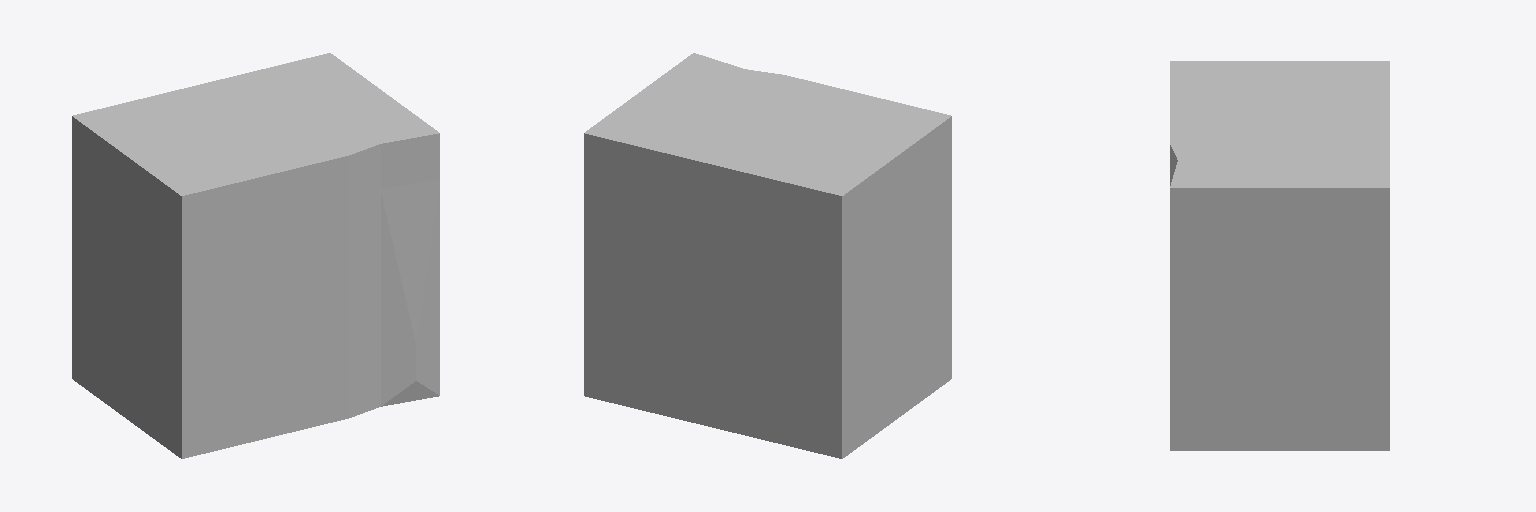
The picture shows the model from 3 angles: view 1: azimuth 30°, elevation 25°; view 2: azimuth 150°, elevation 25°; view 3: azimuth 270°, elevation 25°; orthographic projection.
Visible parts, largest first — view 1: CardboardBoxes_2.008_Cube.023; view 2: CardboardBoxes_2.008_Cube.023; view 3: CardboardBoxes_2.008_Cube.023.
Part boxes in pixels (x1,y1,x2,y2): CardboardBoxes_2.008_Cube.023: (72, 53, 439, 458); CardboardBoxes_2.008_Cube.023: (584, 53, 951, 458); CardboardBoxes_2.008_Cube.023: (1170, 61, 1389, 450).
Bounding box in the file's own units: 64.45 × 62.59 × 47.49.